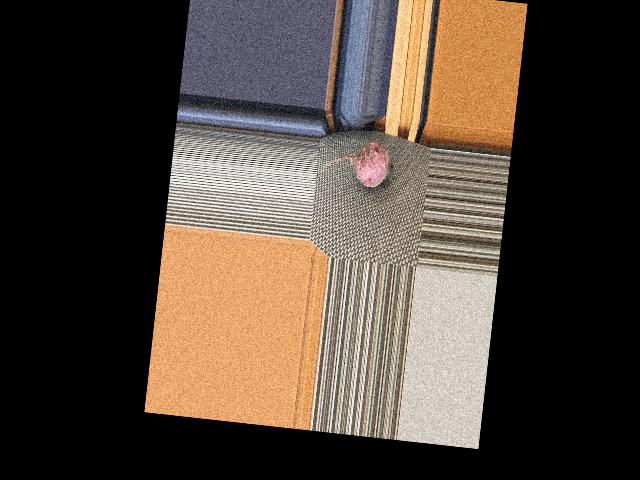beet: (321, 135, 397, 189)
